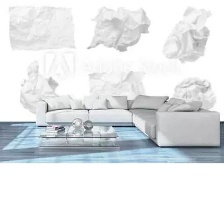book: (84, 3, 164, 53), (10, 55, 73, 117), (2, 3, 80, 51), (159, 6, 219, 64), (81, 64, 151, 106), (161, 73, 219, 114)
